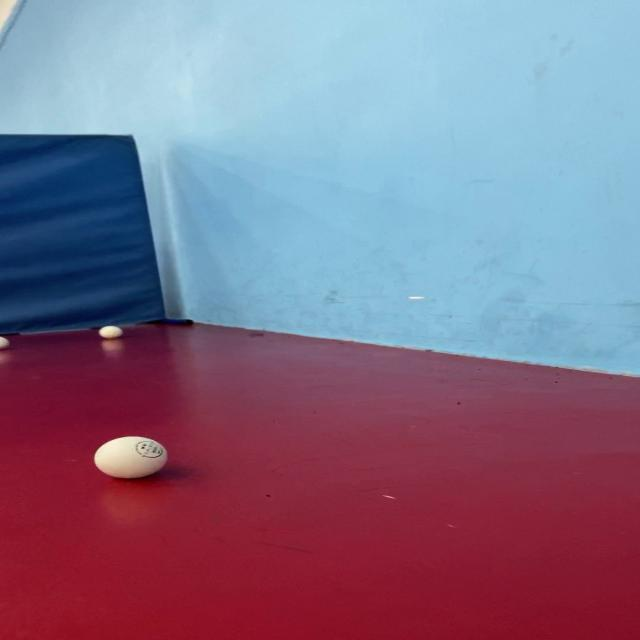ping-pong-ball: (85, 429, 185, 486), (94, 322, 130, 342)
